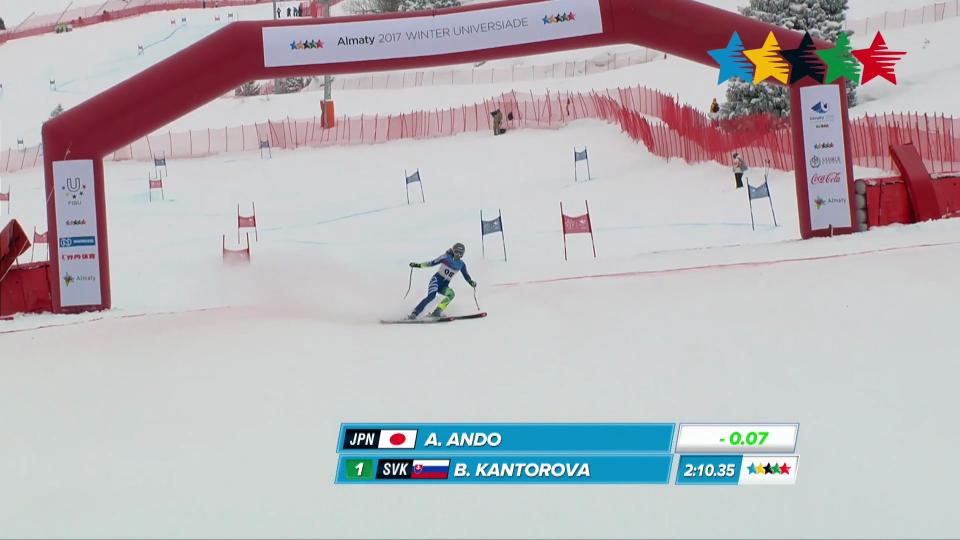gate: (552, 202, 578, 267), (580, 195, 600, 258)
